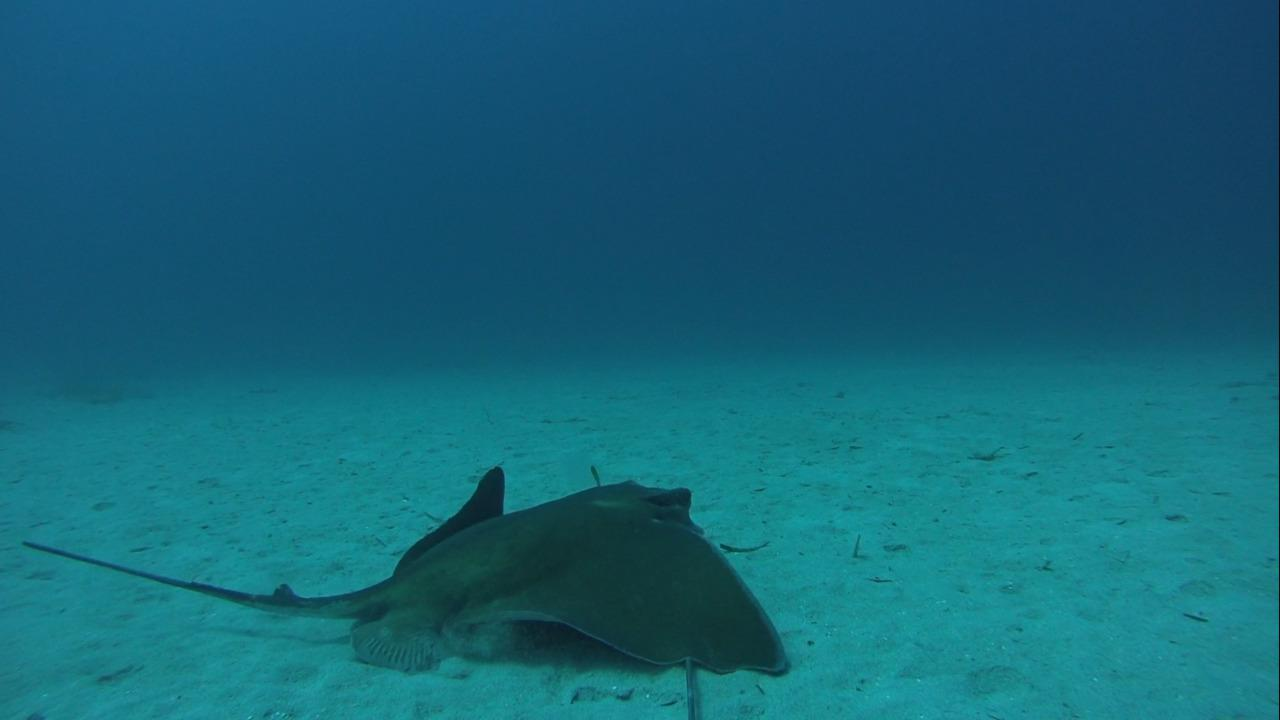myliobatis: (16, 461, 794, 689)
